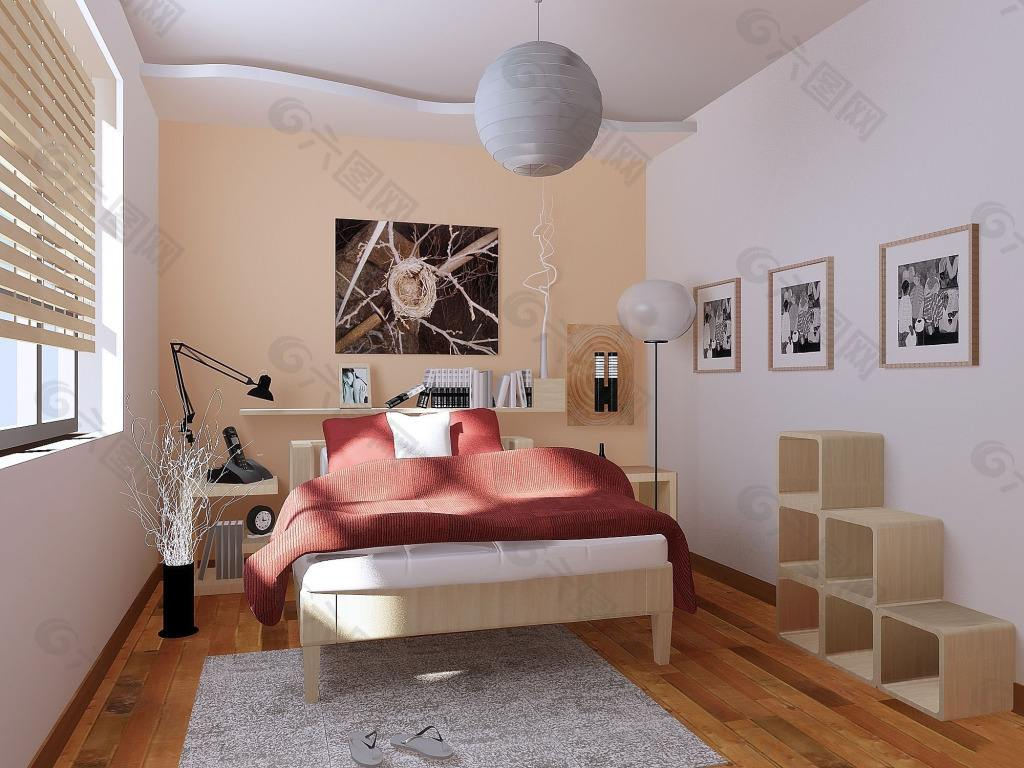床: (270, 426, 668, 669)
枕头: (323, 407, 505, 477)
灯: (470, 24, 608, 181), (166, 347, 283, 497), (619, 275, 693, 508)
